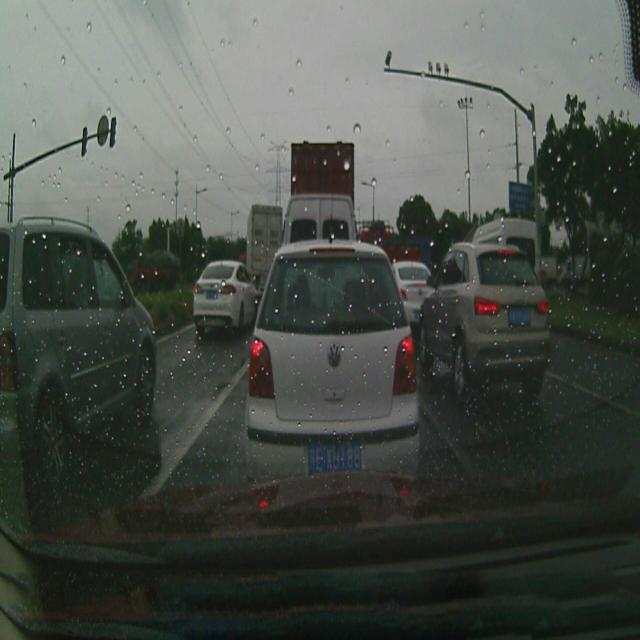car: (0, 214, 156, 492), (244, 238, 418, 476), (416, 239, 551, 399), (192, 260, 258, 338), (281, 195, 358, 242), (388, 259, 432, 325)
